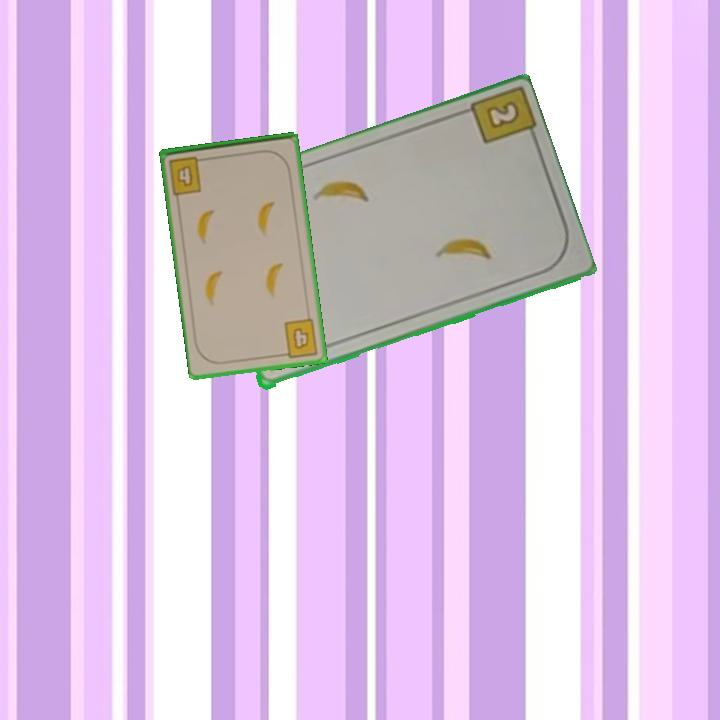2b: (482, 97, 523, 133)
4b: (165, 152, 210, 197), (277, 315, 321, 360)
